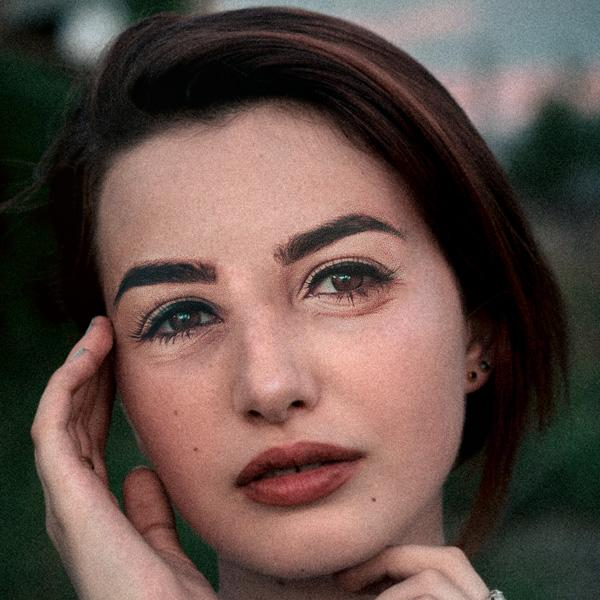Eyes: (292, 246, 400, 314), (128, 288, 231, 357)
